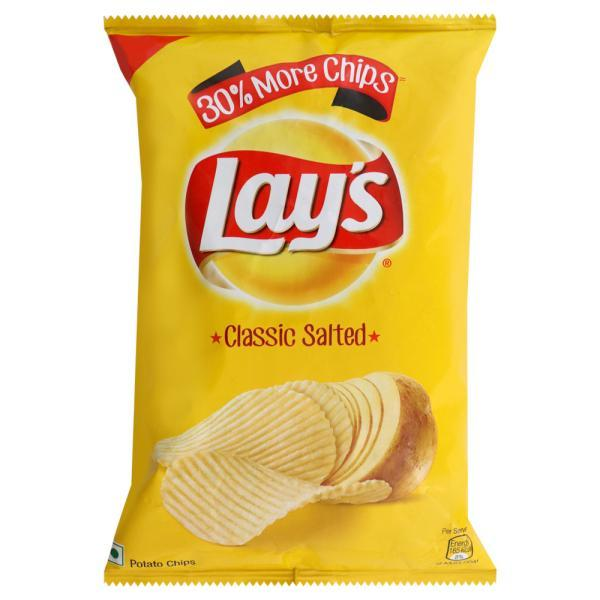Lays: (94, 11, 505, 588)
